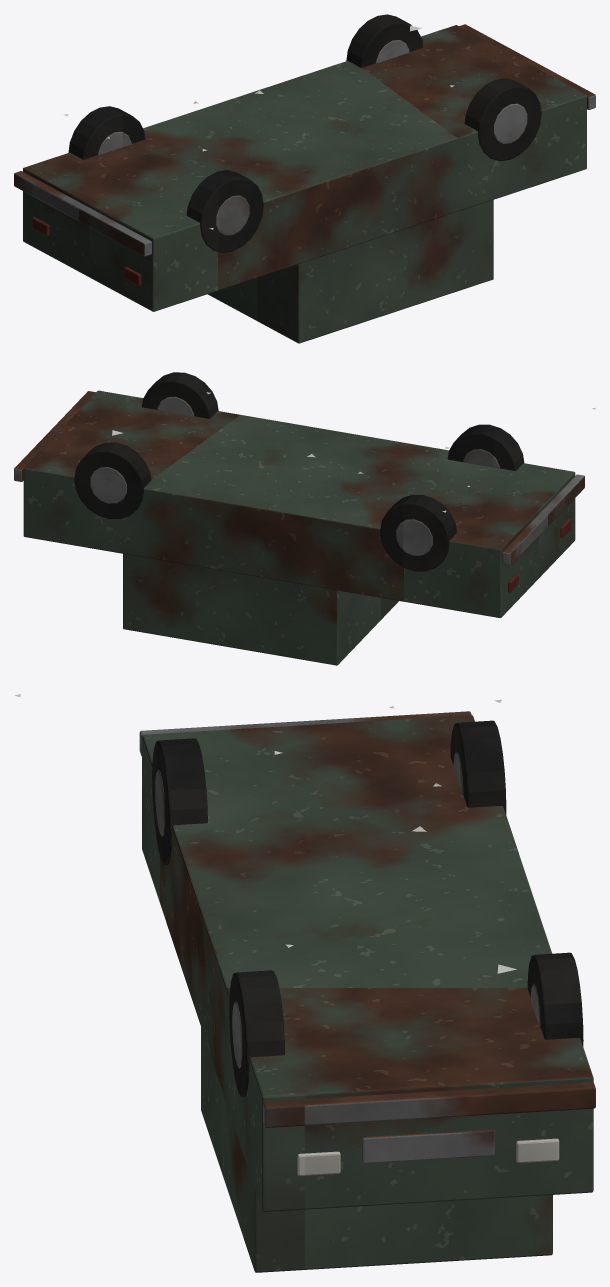
File: JV03_overturned_car_v1.glb
3 views of the same model, one above another, from view 1: azimuth 30°, elevation 25°; view 2: azimuth 150°, elevation 25°; view 3: azimuth 270°, elevation 25° (orthographic). The views are drawn at different scales.
Parts seen in each view (by area): view 1: JV03_overturned_car_v1; view 2: JV03_overturned_car_v1; view 3: JV03_overturned_car_v1.
Boxes of the visible parts, x1,y1,x2,y2 form: JV03_overturned_car_v1: [14, 14, 595, 343]; JV03_overturned_car_v1: [14, 372, 595, 665]; JV03_overturned_car_v1: [14, 694, 595, 1272].
Bounding box in the file's own units: 4.4 × 1.57 × 2.73.
6 materials, 6 textured.
